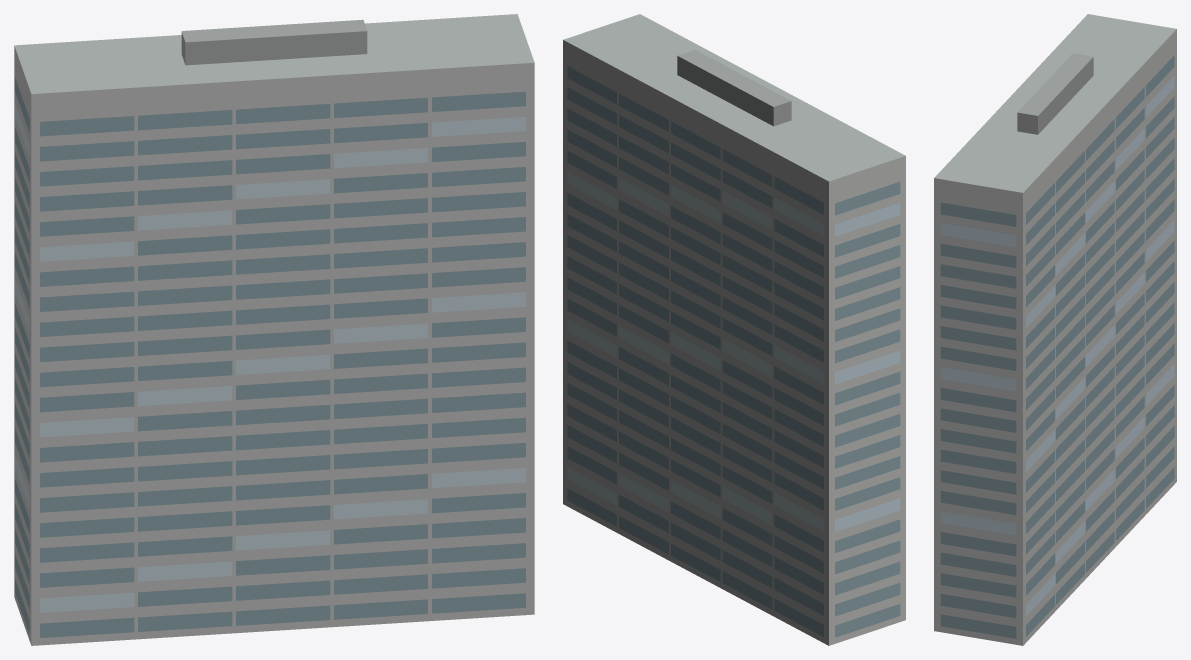
The model's file is fallback-jamsil-els-154.glb.
3 renders of one model, left to right at view 1: azimuth 30°, elevation 25°; view 2: azimuth 150°, elevation 25°; view 3: azimuth 270°, elevation 25°, orthographic. The views are drawn at different scales.
Visible parts, largest first — view 1: fallback-jamsil-els-154; view 2: fallback-jamsil-els-154; view 3: fallback-jamsil-els-154.
Boxes of the visible parts, left/top/right/bottom form: fallback-jamsil-els-154: left=14, top=14, right=534, bottom=645; fallback-jamsil-els-154: left=563, top=14, right=905, bottom=645; fallback-jamsil-els-154: left=934, top=14, right=1176, bottom=645.
Bounding box in the file's own units: 48.8 × 60 × 27.99.
